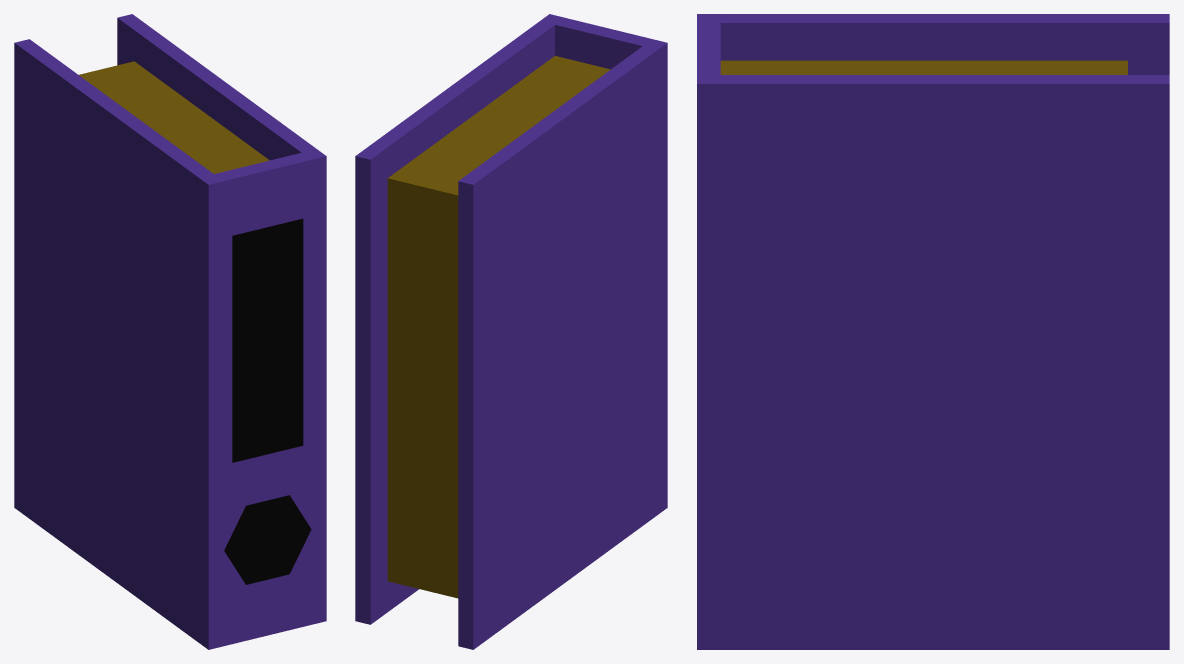
The model's file is folder1.fbx.
3 renders of one model, left to right at view 1: azimuth 30°, elevation 25°; view 2: azimuth 150°, elevation 25°; view 3: azimuth 270°, elevation 25°, orthographic. The views are drawn at different scales.
Visible parts, largest first — view 1: folder1; view 2: folder1; view 3: folder1.
Boxes of the visible parts, x1=… form: folder1: x1=14, y1=14, x2=326, y2=649; folder1: x1=355, y1=14, x2=667, y2=649; folder1: x1=697, y1=14, x2=1169, y2=649.
Bounding box in the file's own units: 7 × 26.36 × 19.97.
